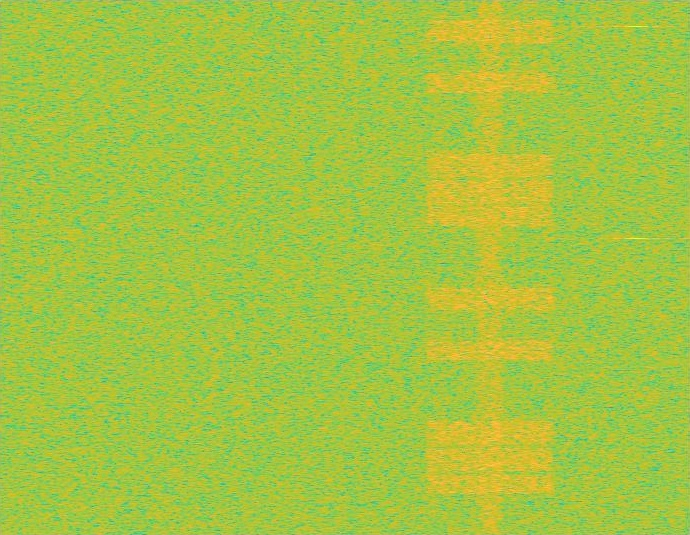DSSS: (474, 0, 505, 534)
LTE: (421, 0, 559, 534)
Radar: (630, 0, 644, 534)
